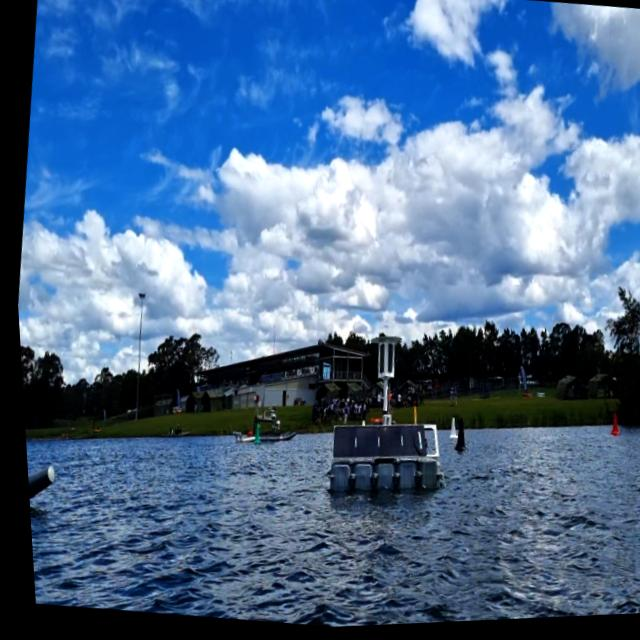led: (378, 345, 391, 378), (371, 345, 383, 377)
